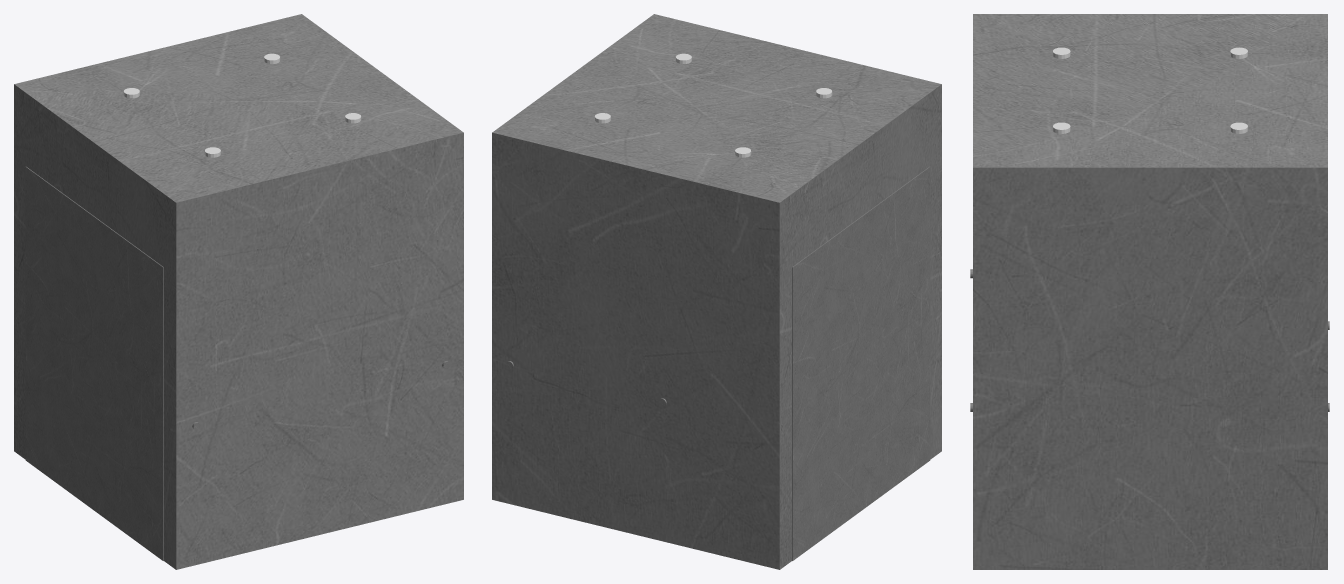
The model's file is lift.glb.
3 renders of one model, left to right at view 1: azimuth 30°, elevation 25°; view 2: azimuth 150°, elevation 25°; view 3: azimuth 270°, elevation 25°, orthographic. The views are drawn at different scales.
Visible parts, largest first — view 1: lift, door, door.001, lighter; view 2: lift, door.001, door, lighter; view 3: lift, lighter.
Boxes of the visible parts, <box> form: lift: <box>14,14,463,569</box>; door: <box>25,166,94,510</box>; door.001: <box>94,217,163,560</box>; lighter: <box>123,53,361,157</box>; lift: <box>492,14,941,569</box>; door.001: <box>861,166,930,510</box>; door: <box>792,217,861,560</box>; lighter: <box>594,53,832,157</box>; lift: <box>973,14,1327,569</box>; lighter: <box>1052,47,1247,133</box>.
Bounding box in the file's own units: 4.11 × 5.05 × 4.05.
Materials: 35 (33 with a texture image).
